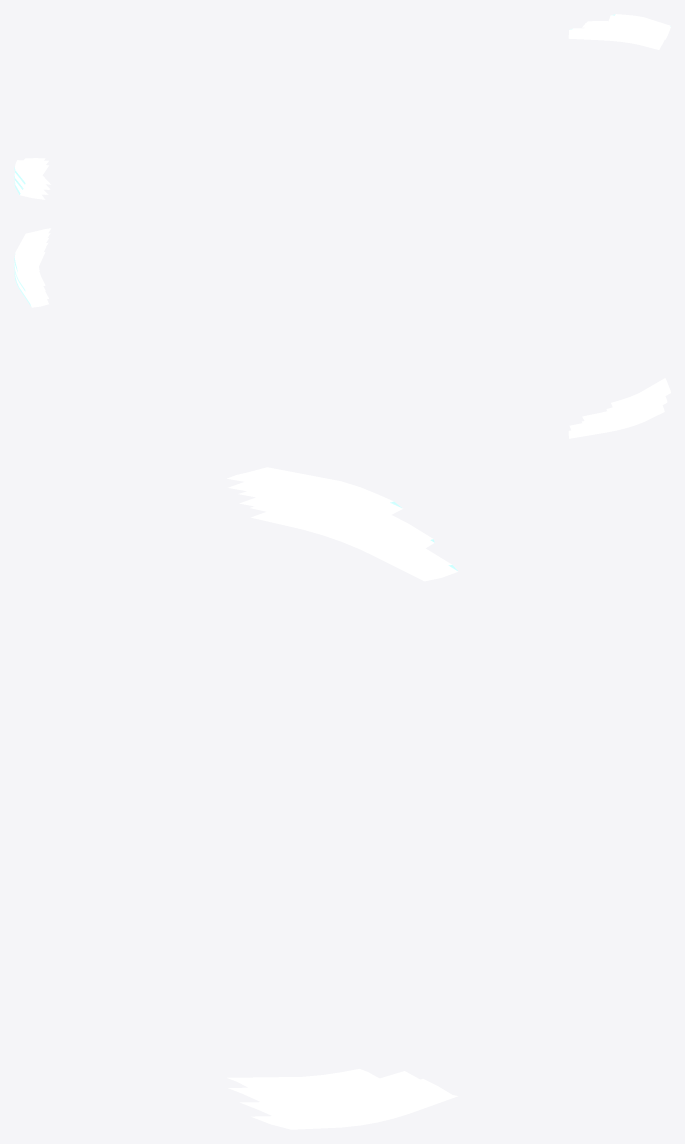
Rendered from glass_stirips.glb.
3 views of the same model, one above another, from view 1: azimuth 30°, elevation 25°; view 2: azimuth 150°, elevation 25°; view 3: azimuth 270°, elevation 25° (orthographic). The views are drawn at different scales.
Parts seen in each view (by area): view 1: glass_stirips; view 2: glass_stirips; view 3: glass_stirips.
Part boxes in pixels (x1,y1,x2,y2): glass_stirips: [14, 14, 670, 199]; glass_stirips: [14, 228, 670, 438]; glass_stirips: [227, 467, 457, 1129].
Bounding box in the file's own units: 1.07 × 0.0455 × 0.1665.
